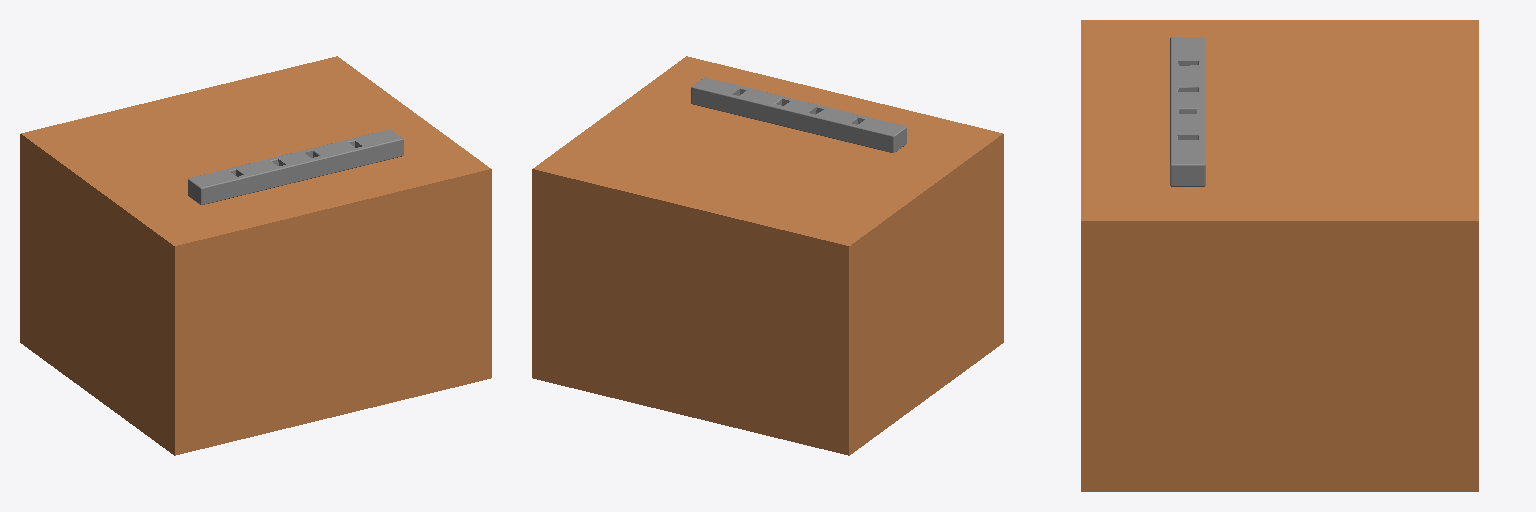
The robot description file, URDF, robot "table_beam_2x_2_scene_0069":
<?xml version="1.0"?>
<robot name="table_beam_2x_2_scene_0069">
  <link name="box">
    <visual>
      <material name="wood"><color rgba="0.82 0.56 0.35 1.0"/></material>
      <origin xyz="0 0 0"/>
      <geometry><box size="0.475 0.4 0.3"/></geometry>
    </visual>
    <collision>
      <origin xyz="0 0 0"/>
      <geometry><box size="0.475 0.4 0.3"/></geometry>
    </collision>
    <inertial>
      <mass value="500"/>
      <friction value="1.0"/>
      <inertia ixx="1000.0" ixy="0.0" ixz="0.0" iyy="1000.0" iyz="0.0" izz="1000.0"/>
    </inertial>
  </link>
  <link name="part_6_hull_0">
    <visual>
      <origin xyz="0 0 0" rpy="0 0 0"/>
      <geometry><mesh filename="../../6/coacd/decomp_0.obj" scale="1 1 1"/></geometry>
      <material name="placed_0"><color rgba="0.6 0.6 0.6 1.0"/></material>
    </visual>
    <collision>
      <origin xyz="0 0 0" rpy="0 0 0"/>
      <geometry><mesh filename="../../6/coacd/decomp_0.obj" scale="1 1 1"/></geometry>
    </collision>
  </link>
  <joint name="part_6_hull_0_joint" type="fixed">
    <parent link="box"/>
    <child link="part_6_hull_0"/>
    <origin xyz="0.006380 -0.092149 0.162666" rpy="0.000000 0.000000 0.000000"/>
  </joint>
  <link name="part_6_hull_1">
    <visual>
      <origin xyz="0 0 0" rpy="0 0 0"/>
      <geometry><mesh filename="../../6/coacd/decomp_1.obj" scale="1 1 1"/></geometry>
      <material name="placed_1"><color rgba="0.6 0.6 0.6 1.0"/></material>
    </visual>
    <collision>
      <origin xyz="0 0 0" rpy="0 0 0"/>
      <geometry><mesh filename="../../6/coacd/decomp_1.obj" scale="1 1 1"/></geometry>
    </collision>
  </link>
  <joint name="part_6_hull_1_joint" type="fixed">
    <parent link="box"/>
    <child link="part_6_hull_1"/>
    <origin xyz="0.006380 -0.092149 0.162666" rpy="0.000000 0.000000 0.000000"/>
  </joint>
  <link name="part_6_hull_2">
    <visual>
      <origin xyz="0 0 0" rpy="0 0 0"/>
      <geometry><mesh filename="../../6/coacd/decomp_10.obj" scale="1 1 1"/></geometry>
      <material name="placed_2"><color rgba="0.6 0.6 0.6 1.0"/></material>
    </visual>
    <collision>
      <origin xyz="0 0 0" rpy="0 0 0"/>
      <geometry><mesh filename="../../6/coacd/decomp_10.obj" scale="1 1 1"/></geometry>
    </collision>
  </link>
  <joint name="part_6_hull_2_joint" type="fixed">
    <parent link="box"/>
    <child link="part_6_hull_2"/>
    <origin xyz="0.006380 -0.092149 0.162666" rpy="0.000000 0.000000 0.000000"/>
  </joint>
  <link name="part_6_hull_3">
    <visual>
      <origin xyz="0 0 0" rpy="0 0 0"/>
      <geometry><mesh filename="../../6/coacd/decomp_11.obj" scale="1 1 1"/></geometry>
      <material name="placed_3"><color rgba="0.6 0.6 0.6 1.0"/></material>
    </visual>
    <collision>
      <origin xyz="0 0 0" rpy="0 0 0"/>
      <geometry><mesh filename="../../6/coacd/decomp_11.obj" scale="1 1 1"/></geometry>
    </collision>
  </link>
  <joint name="part_6_hull_3_joint" type="fixed">
    <parent link="box"/>
    <child link="part_6_hull_3"/>
    <origin xyz="0.006380 -0.092149 0.162666" rpy="0.000000 0.000000 0.000000"/>
  </joint>
  <link name="part_6_hull_4">
    <visual>
      <origin xyz="0 0 0" rpy="0 0 0"/>
      <geometry><mesh filename="../../6/coacd/decomp_12.obj" scale="1 1 1"/></geometry>
      <material name="placed_4"><color rgba="0.6 0.6 0.6 1.0"/></material>
    </visual>
    <collision>
      <origin xyz="0 0 0" rpy="0 0 0"/>
      <geometry><mesh filename="../../6/coacd/decomp_12.obj" scale="1 1 1"/></geometry>
    </collision>
  </link>
  <joint name="part_6_hull_4_joint" type="fixed">
    <parent link="box"/>
    <child link="part_6_hull_4"/>
    <origin xyz="0.006380 -0.092149 0.162666" rpy="0.000000 0.000000 0.000000"/>
  </joint>
  <link name="part_6_hull_5">
    <visual>
      <origin xyz="0 0 0" rpy="0 0 0"/>
      <geometry><mesh filename="../../6/coacd/decomp_13.obj" scale="1 1 1"/></geometry>
      <material name="placed_5"><color rgba="0.6 0.6 0.6 1.0"/></material>
    </visual>
    <collision>
      <origin xyz="0 0 0" rpy="0 0 0"/>
      <geometry><mesh filename="../../6/coacd/decomp_13.obj" scale="1 1 1"/></geometry>
    </collision>
  </link>
  <joint name="part_6_hull_5_joint" type="fixed">
    <parent link="box"/>
    <child link="part_6_hull_5"/>
    <origin xyz="0.006380 -0.092149 0.162666" rpy="0.000000 0.000000 0.000000"/>
  </joint>
  <link name="part_6_hull_6">
    <visual>
      <origin xyz="0 0 0" rpy="0 0 0"/>
      <geometry><mesh filename="../../6/coacd/decomp_2.obj" scale="1 1 1"/></geometry>
      <material name="placed_6"><color rgba="0.6 0.6 0.6 1.0"/></material>
    </visual>
    <collision>
      <origin xyz="0 0 0" rpy="0 0 0"/>
      <geometry><mesh filename="../../6/coacd/decomp_2.obj" scale="1 1 1"/></geometry>
    </collision>
  </link>
  <joint name="part_6_hull_6_joint" type="fixed">
    <parent link="box"/>
    <child link="part_6_hull_6"/>
    <origin xyz="0.006380 -0.092149 0.162666" rpy="0.000000 0.000000 0.000000"/>
  </joint>
  <link name="part_6_hull_7">
    <visual>
      <origin xyz="0 0 0" rpy="0 0 0"/>
      <geometry><mesh filename="../../6/coacd/decomp_3.obj" scale="1 1 1"/></geometry>
      <material name="placed_7"><color rgba="0.6 0.6 0.6 1.0"/></material>
    </visual>
    <collision>
      <origin xyz="0 0 0" rpy="0 0 0"/>
      <geometry><mesh filename="../../6/coacd/decomp_3.obj" scale="1 1 1"/></geometry>
    </collision>
  </link>
  <joint name="part_6_hull_7_joint" type="fixed">
    <parent link="box"/>
    <child link="part_6_hull_7"/>
    <origin xyz="0.006380 -0.092149 0.162666" rpy="0.000000 0.000000 0.000000"/>
  </joint>
  <link name="part_6_hull_8">
    <visual>
      <origin xyz="0 0 0" rpy="0 0 0"/>
      <geometry><mesh filename="../../6/coacd/decomp_4.obj" scale="1 1 1"/></geometry>
      <material name="placed_8"><color rgba="0.6 0.6 0.6 1.0"/></material>
    </visual>
    <collision>
      <origin xyz="0 0 0" rpy="0 0 0"/>
      <geometry><mesh filename="../../6/coacd/decomp_4.obj" scale="1 1 1"/></geometry>
    </collision>
  </link>
  <joint name="part_6_hull_8_joint" type="fixed">
    <parent link="box"/>
    <child link="part_6_hull_8"/>
    <origin xyz="0.006380 -0.092149 0.162666" rpy="0.000000 0.000000 0.000000"/>
  </joint>
  <link name="part_6_hull_9">
    <visual>
      <origin xyz="0 0 0" rpy="0 0 0"/>
      <geometry><mesh filename="../../6/coacd/decomp_5.obj" scale="1 1 1"/></geometry>
      <material name="placed_9"><color rgba="0.6 0.6 0.6 1.0"/></material>
    </visual>
    <collision>
      <origin xyz="0 0 0" rpy="0 0 0"/>
      <geometry><mesh filename="../../6/coacd/decomp_5.obj" scale="1 1 1"/></geometry>
    </collision>
  </link>
  <joint name="part_6_hull_9_joint" type="fixed">
    <parent link="box"/>
    <child link="part_6_hull_9"/>
    <origin xyz="0.006380 -0.092149 0.162666" rpy="0.000000 0.000000 0.000000"/>
  </joint>
  <link name="part_6_hull_10">
    <visual>
      <origin xyz="0 0 0" rpy="0 0 0"/>
      <geometry><mesh filename="../../6/coacd/decomp_6.obj" scale="1 1 1"/></geometry>
      <material name="placed_10"><color rgba="0.6 0.6 0.6 1.0"/></material>
    </visual>
    <collision>
      <origin xyz="0 0 0" rpy="0 0 0"/>
      <geometry><mesh filename="../../6/coacd/decomp_6.obj" scale="1 1 1"/></geometry>
    </collision>
  </link>
  <joint name="part_6_hull_10_joint" type="fixed">
    <parent link="box"/>
    <child link="part_6_hull_10"/>
    <origin xyz="0.006380 -0.092149 0.162666" rpy="0.000000 0.000000 0.000000"/>
  </joint>
  <link name="part_6_hull_11">
    <visual>
      <origin xyz="0 0 0" rpy="0 0 0"/>
      <geometry><mesh filename="../../6/coacd/decomp_7.obj" scale="1 1 1"/></geometry>
      <material name="placed_11"><color rgba="0.6 0.6 0.6 1.0"/></material>
    </visual>
    <collision>
      <origin xyz="0 0 0" rpy="0 0 0"/>
      <geometry><mesh filename="../../6/coacd/decomp_7.obj" scale="1 1 1"/></geometry>
    </collision>
  </link>
  <joint name="part_6_hull_11_joint" type="fixed">
    <parent link="box"/>
    <child link="part_6_hull_11"/>
    <origin xyz="0.006380 -0.092149 0.162666" rpy="0.000000 0.000000 0.000000"/>
  </joint>
  <link name="part_6_hull_12">
    <visual>
      <origin xyz="0 0 0" rpy="0 0 0"/>
      <geometry><mesh filename="../../6/coacd/decomp_8.obj" scale="1 1 1"/></geometry>
      <material name="placed_12"><color rgba="0.6 0.6 0.6 1.0"/></material>
    </visual>
    <collision>
      <origin xyz="0 0 0" rpy="0 0 0"/>
      <geometry><mesh filename="../../6/coacd/decomp_8.obj" scale="1 1 1"/></geometry>
    </collision>
  </link>
  <joint name="part_6_hull_12_joint" type="fixed">
    <parent link="box"/>
    <child link="part_6_hull_12"/>
    <origin xyz="0.006380 -0.092149 0.162666" rpy="0.000000 0.000000 0.000000"/>
  </joint>
  <link name="part_6_hull_13">
    <visual>
      <origin xyz="0 0 0" rpy="0 0 0"/>
      <geometry><mesh filename="../../6/coacd/decomp_9.obj" scale="1 1 1"/></geometry>
      <material name="placed_13"><color rgba="0.6 0.6 0.6 1.0"/></material>
    </visual>
    <collision>
      <origin xyz="0 0 0" rpy="0 0 0"/>
      <geometry><mesh filename="../../6/coacd/decomp_9.obj" scale="1 1 1"/></geometry>
    </collision>
  </link>
  <joint name="part_6_hull_13_joint" type="fixed">
    <parent link="box"/>
    <child link="part_6_hull_13"/>
    <origin xyz="0.006380 -0.092149 0.162666" rpy="0.000000 0.000000 0.000000"/>
  </joint>
</robot>

--- Render facts (derived) ---
The picture shows the robot from 3 angles, left to right: view 1: azimuth 30°, elevation 25°; view 2: azimuth 150°, elevation 25°; view 3: azimuth 270°, elevation 25°; orthographic projection.
Robot: table_beam_2x_2_scene_0069 — 15 links, 14 joints (14 fixed); root link box; default pose: all joints at 0.
Visible links, largest first — view 1: box, part_6_hull_1, part_6_hull_0, part_6_hull_9, part_6_hull_3, part_6_hull_5; view 2: box, part_6_hull_1, part_6_hull_0, part_6_hull_2, part_6_hull_5, part_6_hull_12; view 3: box, part_6_hull_0, part_6_hull_1, part_6_hull_5, part_6_hull_2.
Link boxes in pixels (x1=…): box: x1=20, y1=56, x2=491, y2=455; part_6_hull_1: x1=188, y1=169, x2=239, y2=204; part_6_hull_0: x1=352, y1=129, x2=403, y2=164; part_6_hull_9: x1=238, y1=165, x2=288, y2=195; part_6_hull_3: x1=290, y1=154, x2=331, y2=182; part_6_hull_5: x1=319, y1=140, x2=357, y2=172; box: x1=532, y1=56, x2=1003, y2=455; part_6_hull_1: x1=855, y1=117, x2=906, y2=152; part_6_hull_0: x1=691, y1=77, x2=742, y2=112; part_6_hull_2: x1=813, y1=109, x2=857, y2=141; part_6_hull_5: x1=737, y1=88, x2=775, y2=121; part_6_hull_12: x1=763, y1=102, x2=804, y2=130; box: x1=1081, y1=20, x2=1478, y2=491; part_6_hull_0: x1=1170, y1=140, x2=1205, y2=186; part_6_hull_1: x1=1170, y1=37, x2=1205, y2=65; part_6_hull_5: x1=1170, y1=119, x2=1205, y2=139; part_6_hull_2: x1=1179, y1=65, x2=1205, y2=91.
Size in the robot's own frame: 0.475 by 0.4 by 0.3254 metres.
14 mesh visuals loaded from 14 distinct referenced files (14 OBJ).
